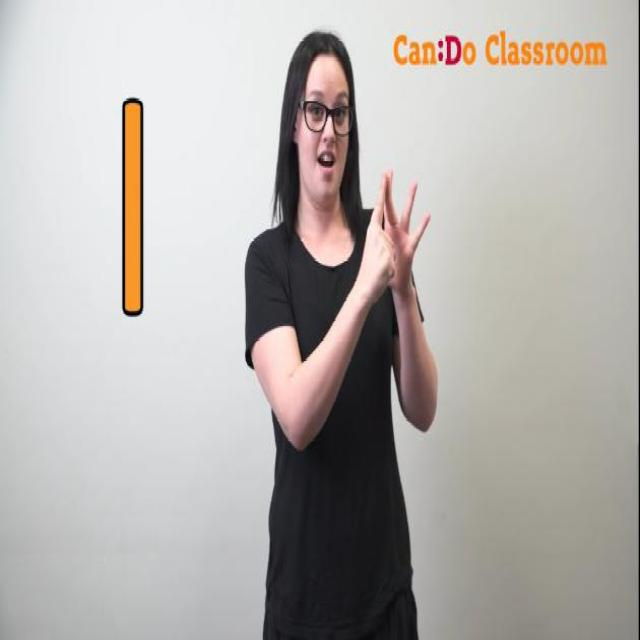I: (352, 164, 439, 318)
